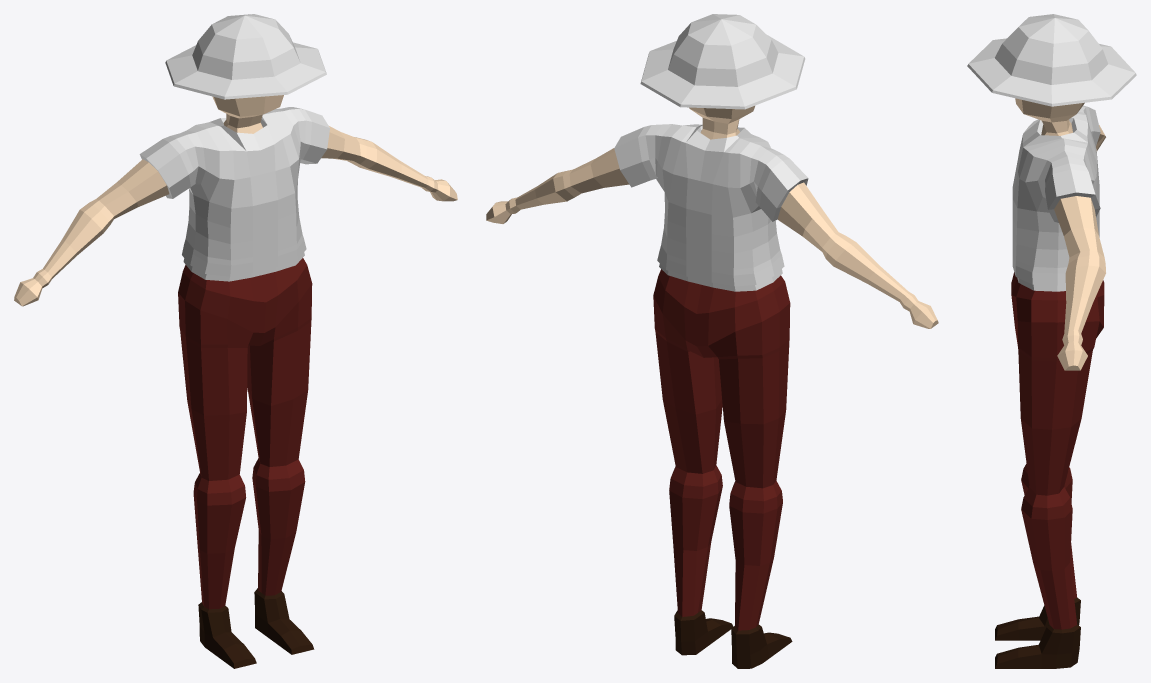
The model's file is LandLord.fbx.
3 renders of one model, left to right at view 1: azimuth 30°, elevation 25°; view 2: azimuth 150°, elevation 25°; view 3: azimuth 270°, elevation 25°, orthographic. The views are drawn at different scales.
Parts seen in each view (by area): view 1: Mesh; view 2: Mesh; view 3: Mesh.
Boxes of the visible parts, <box> form: Mesh: <box>14,14,457,668</box>; Mesh: <box>486,14,938,668</box>; Mesh: <box>967,14,1136,668</box>.
Size of the model in its own units: 150 by 203 by 49.4.
